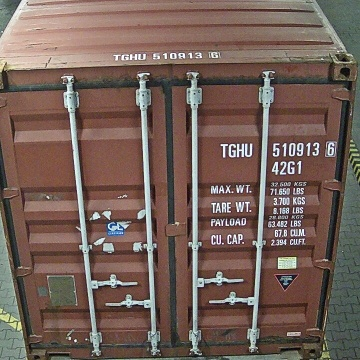serial_id: (220, 141, 336, 156)
